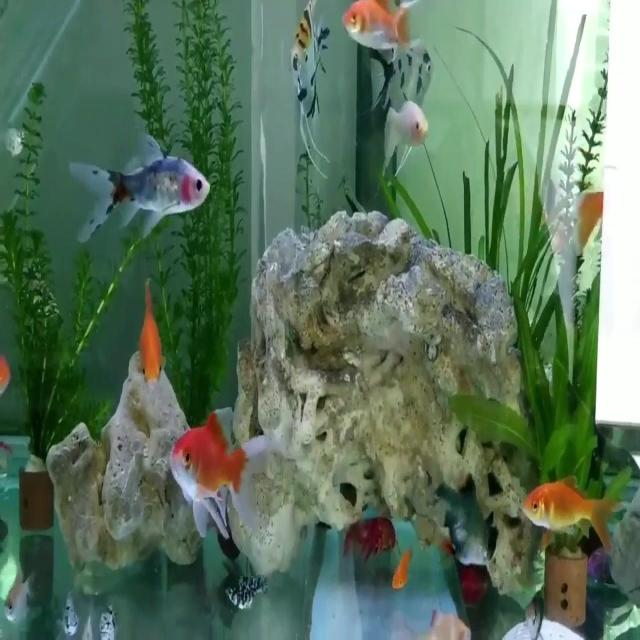GoldFish: (164, 404, 270, 549), (517, 461, 625, 564), (338, 0, 433, 68), (130, 272, 167, 388)
